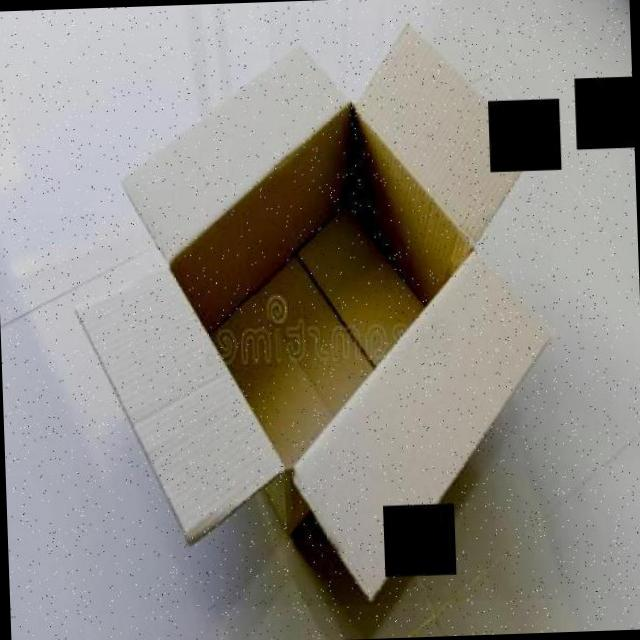box: (61, 12, 564, 614)
